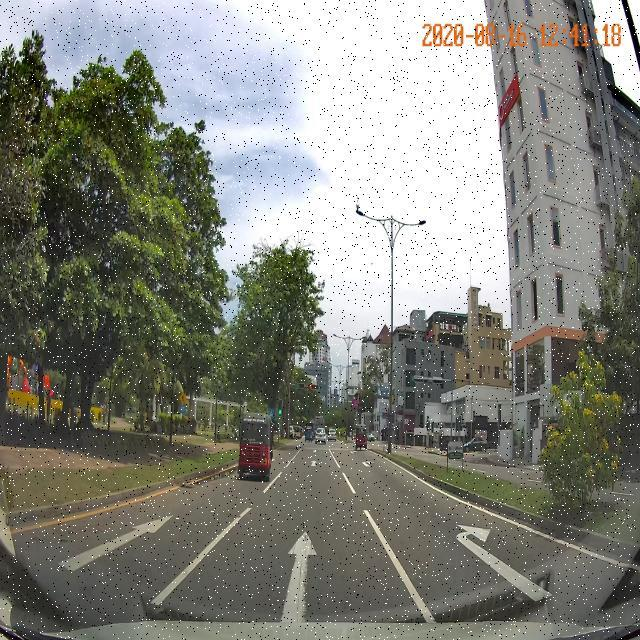forward: (128, 519, 442, 617)
